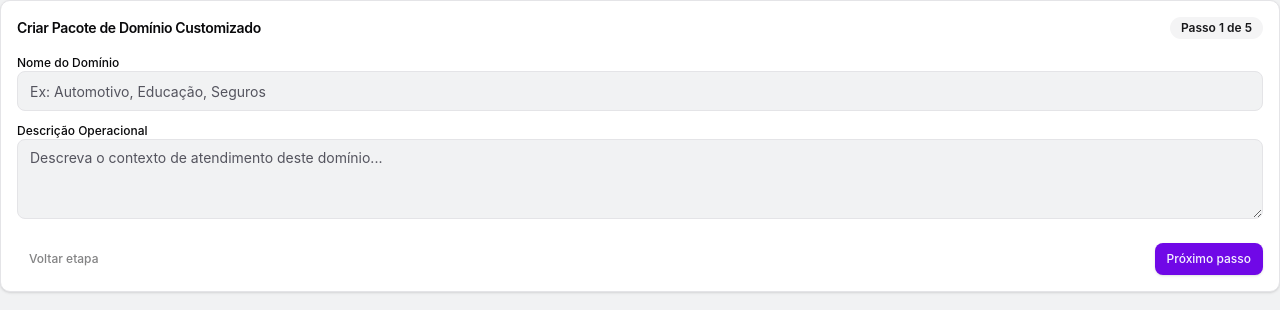
it: DomainCreateWizard › advances through all 5 steps and calls onComplete on Publicar
Later steps or results of the test are not shown.
In the field labelled "Nome do Domínio": (640, 91) [17, 71, 1263, 111], type "Automotivo"
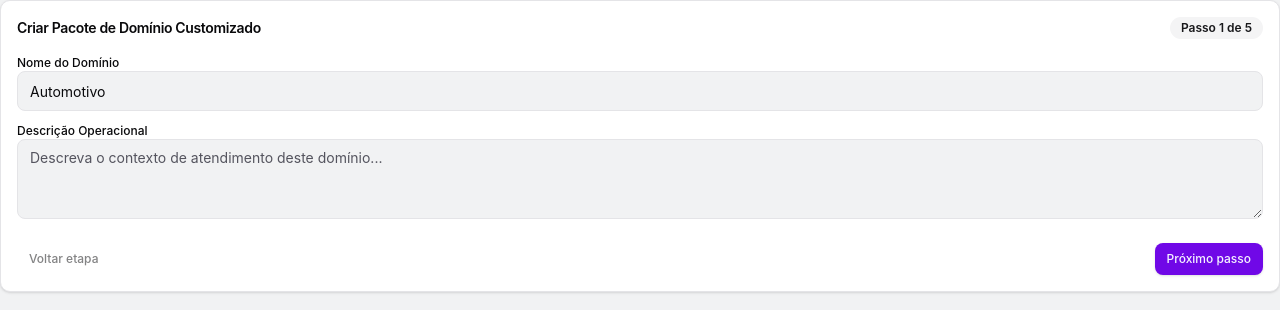
Click the button "Próximo passo": (1209, 259) [1154, 243, 1263, 275]
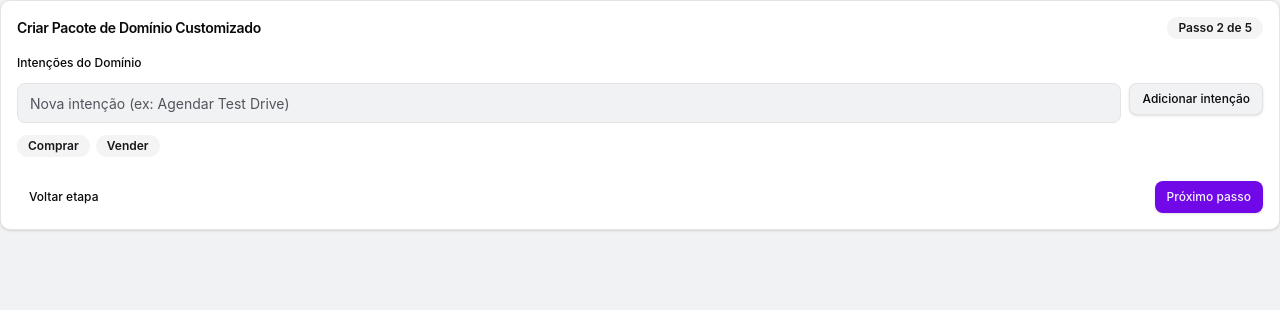
Check: the text "Passo 2 de 5" is shown, box [1168, 17, 1263, 39]
Click the button "Próximo passo": (1209, 197) [1154, 181, 1263, 213]
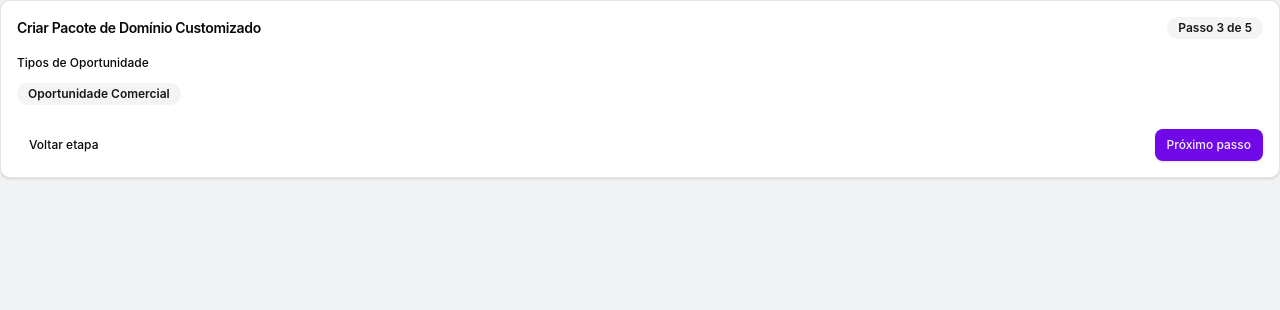
Check: the text "Passo 3 de 5" is shown, box [1167, 17, 1263, 39]
Click the button "Próximo passo": (1209, 145) [1154, 129, 1263, 161]
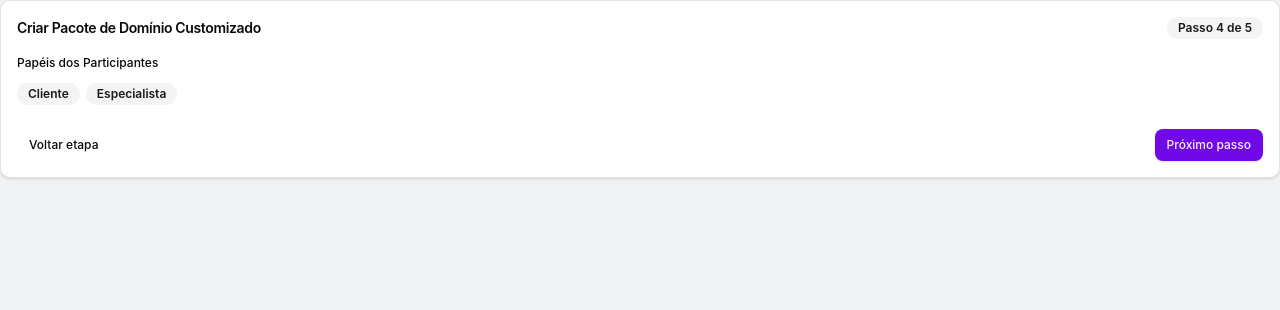
Check: the text "Passo 4 de 5" is shown, box [1167, 17, 1263, 39]
Click the button "Próximo passo": (1209, 145) [1154, 129, 1263, 161]
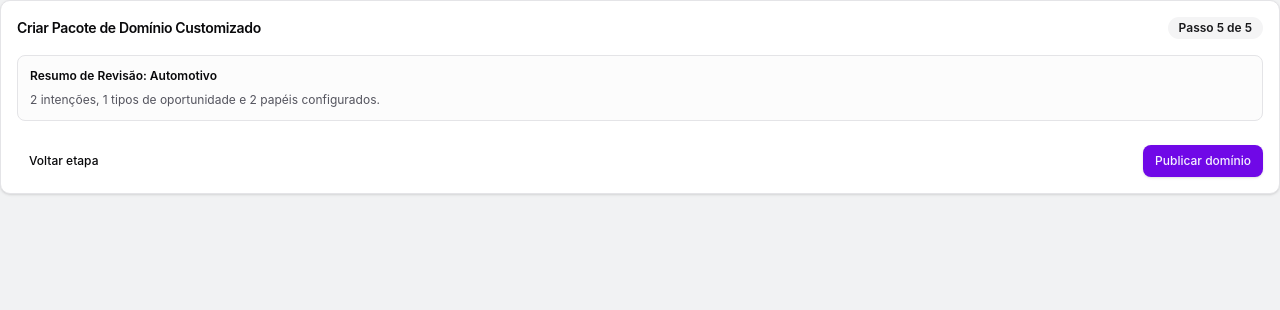
Check: the text "Passo 5 de 5" is shown, box [1168, 17, 1263, 39]
